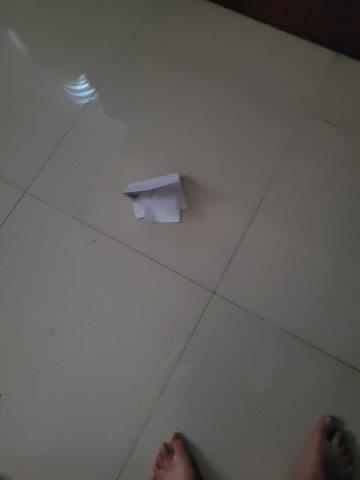kertas: (124, 174, 189, 223)
